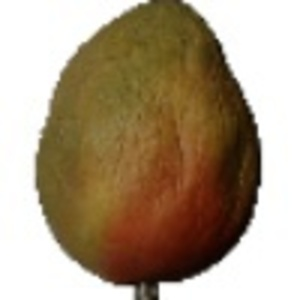mamão: (24, 1, 268, 286)
